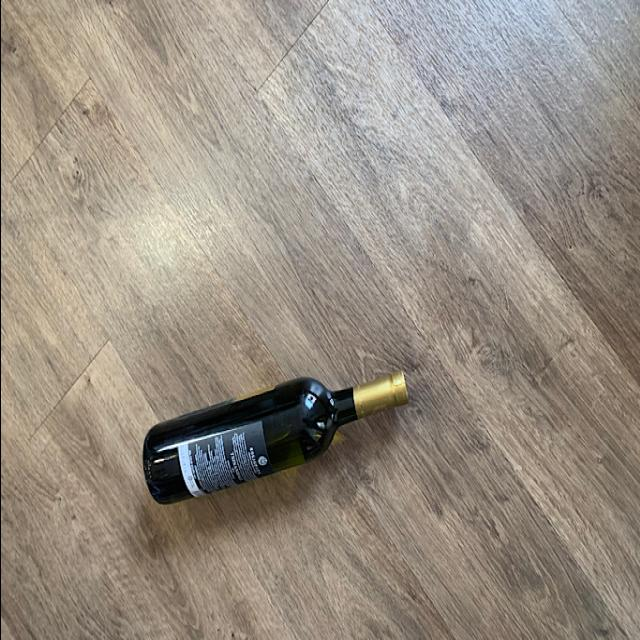Glass Bottle: (138, 369, 408, 510)
